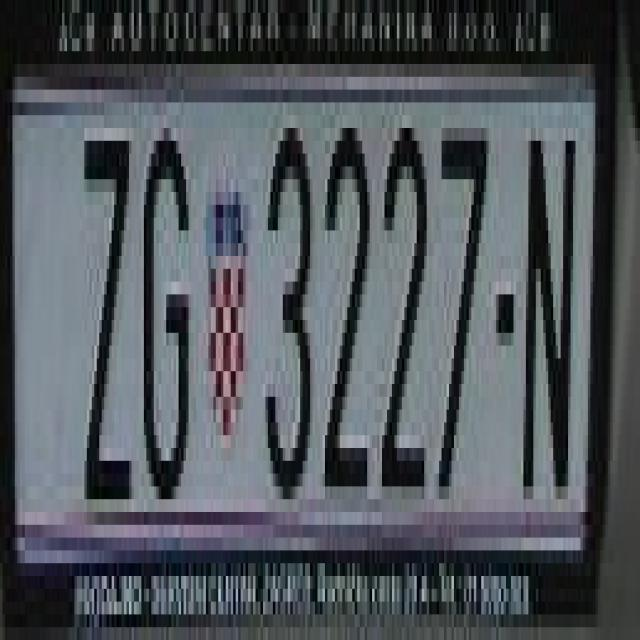2: (321, 109, 371, 493), (379, 115, 426, 499)
3: (264, 108, 312, 506)
7: (436, 108, 488, 506)
G: (141, 115, 191, 499)
N: (517, 108, 579, 506)
Z: (80, 115, 132, 512)
